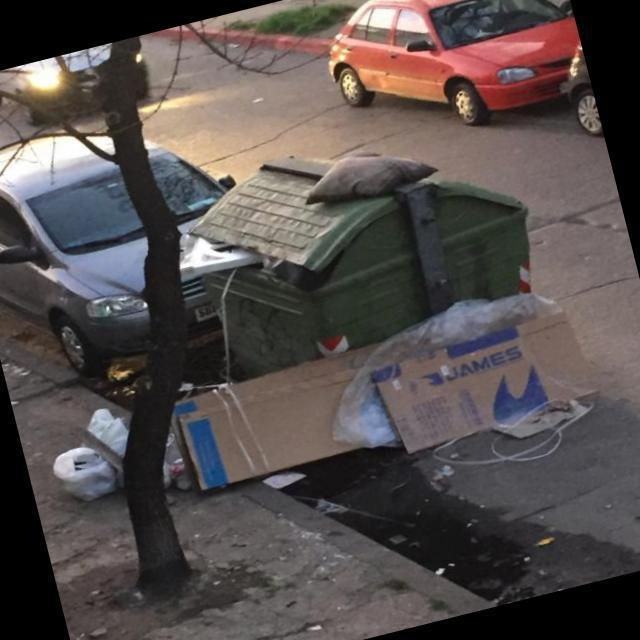garbage: (142, 280, 608, 516), (25, 398, 154, 514)
